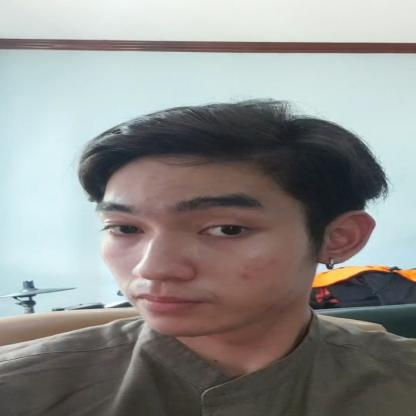Palm: (46, 96, 416, 358)
